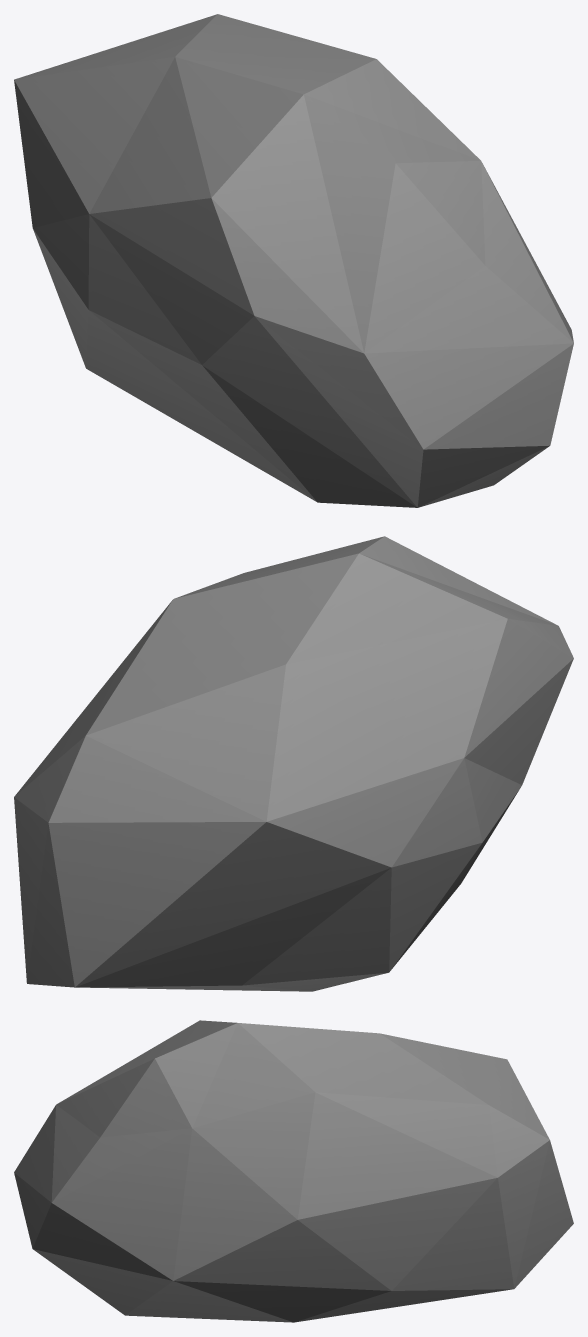
File: Rock_Big_4.fbx
The picture shows the model from 3 angles, top to bottom: view 1: azimuth 30°, elevation 25°; view 2: azimuth 150°, elevation 25°; view 3: azimuth 270°, elevation 25°; orthographic projection. The views are drawn at different scales.
Parts seen in each view (by area): view 1: Rock_Big_4; view 2: Rock_Big_4; view 3: Rock_Big_4.
Boxes of the visible parts, left/top/right/bottom form: Rock_Big_4: left=14, top=14, right=573, bottom=507; Rock_Big_4: left=14, top=536, right=573, bottom=991; Rock_Big_4: left=14, top=1020, right=573, bottom=1322.
Size of the model in its own units: 267 by 258 by 468.
